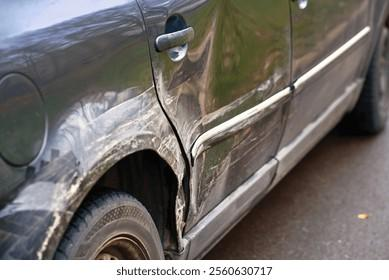scratch: (11, 66, 296, 268)
